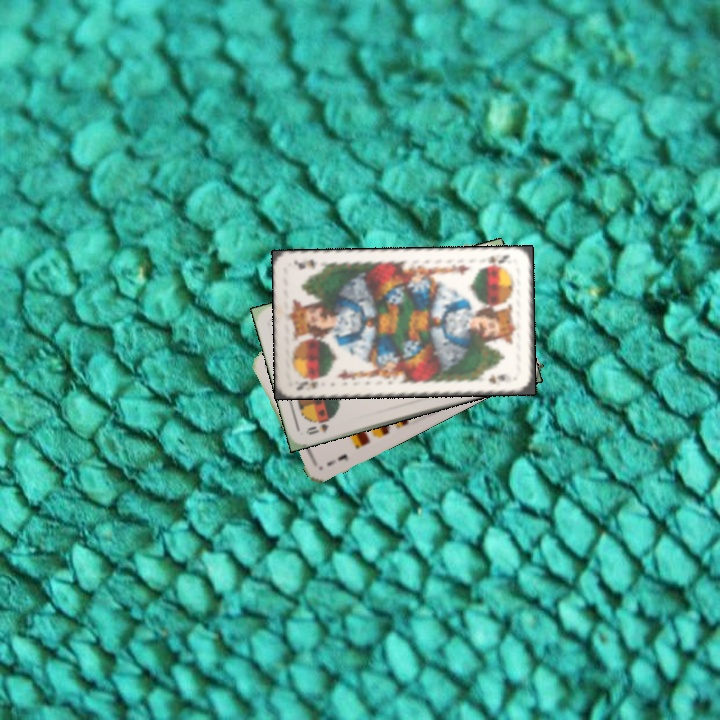E7: (323, 450, 351, 468)
SK: (477, 251, 512, 270), (292, 374, 326, 393)
SO: (302, 419, 331, 437)
